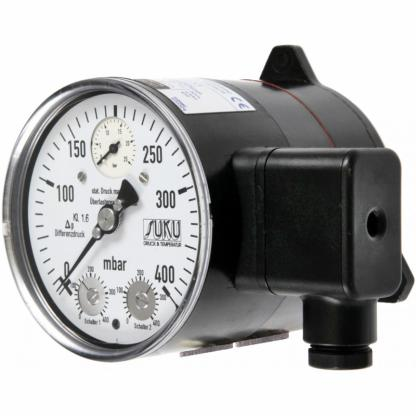needle: (55, 236, 97, 293)
